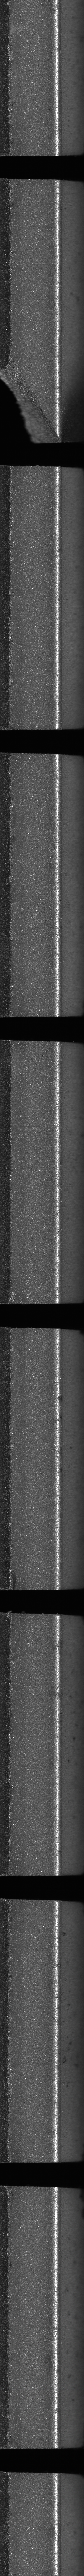Chip: (0, 352, 61, 445)
